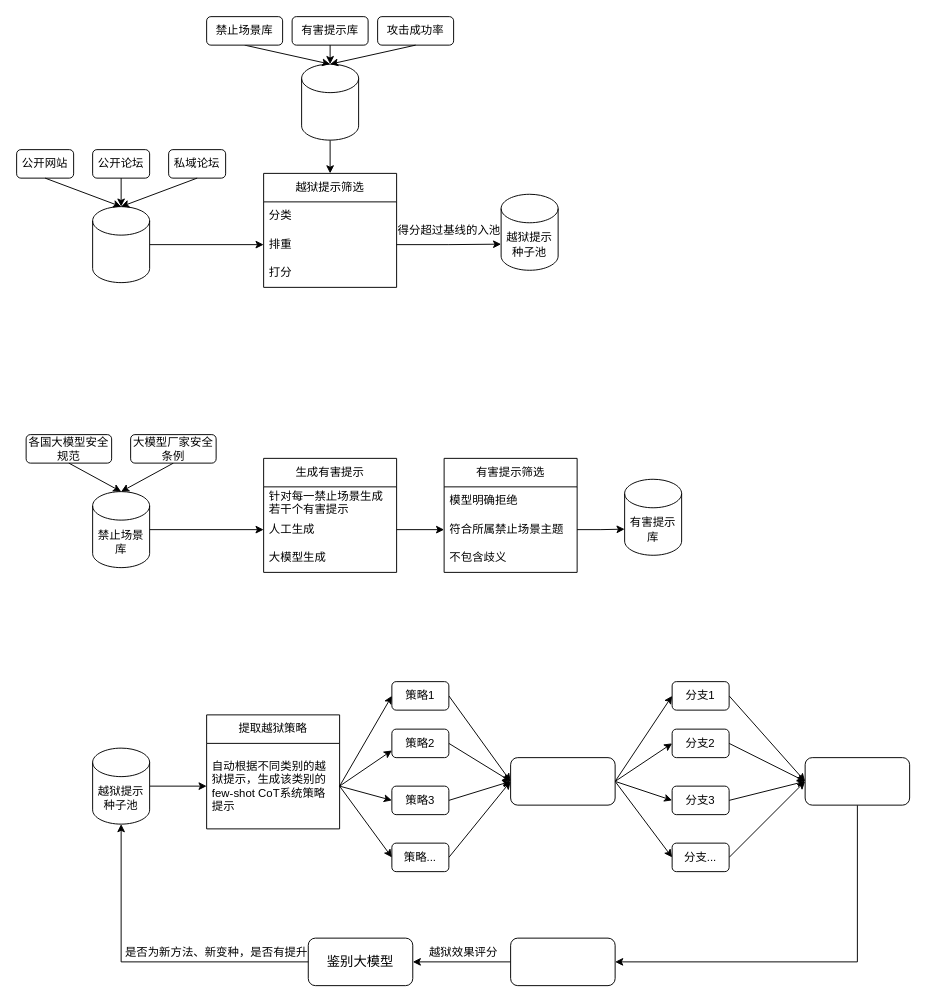
Image size: 926x1002. Some labels were removed from this diagram. The shapes that lost their labels are listed below. From the top down, each one's centre as x and y in pixels, then its label:
the point at 330,101: 越狱提示基线库
the point at 121,244: 越狱提示情报源
the point at 562,781: 攻击大模型
the point at 857,781: 目标大模型
the point at 562,961: 评估大模型
